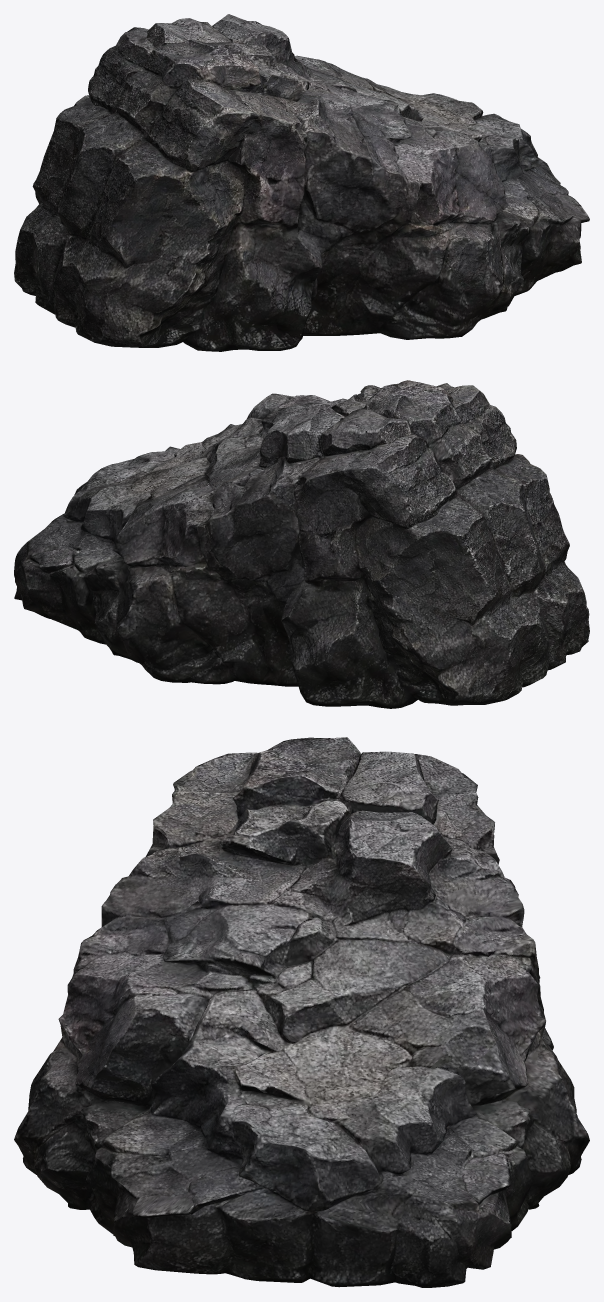
Rendered from footer-rock.glb.
3 views of the same model, one above another, from view 1: azimuth 30°, elevation 25°; view 2: azimuth 150°, elevation 25°; view 3: azimuth 270°, elevation 25° (orthographic). The views are drawn at different scales.
Visible parts, largest first — view 1: footer-rock; view 2: footer-rock; view 3: footer-rock.
Part boxes in pixels (left/top/right/bottom): footer-rock: left=14, top=14, right=589, bottom=351; footer-rock: left=14, top=380, right=589, bottom=708; footer-rock: left=14, top=737, right=589, bottom=1287.
Size of the model in its own units: 0.978 by 0.4653 by 0.7541.
Materials: 1 (1 with a texture image).
